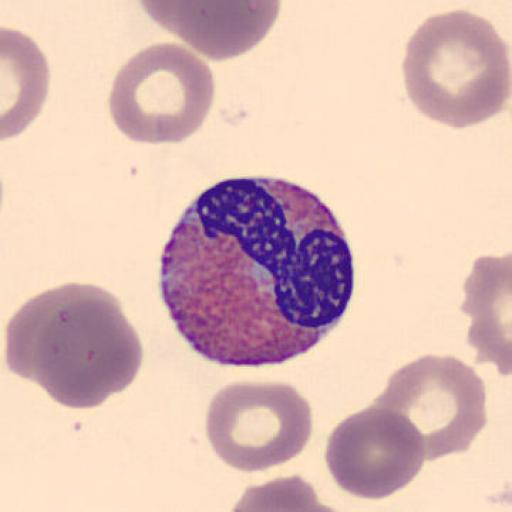RBC: (3, 280, 143, 410), (399, 8, 511, 132), (372, 351, 488, 461), (107, 41, 217, 147), (202, 378, 314, 474), (323, 403, 425, 501), (139, 0, 283, 62), (4, 282, 90, 382), (461, 250, 512, 380), (2, 25, 52, 141), (227, 474, 350, 512)
WBC: (159, 176, 357, 368)
